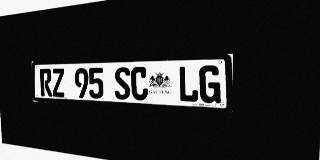5: (89, 68, 104, 99)
9: (74, 68, 89, 98)
C: (131, 67, 148, 101)
G: (199, 65, 221, 104)
L: (178, 66, 198, 103)
R: (40, 69, 52, 97)
S: (114, 67, 131, 100)
Z: (52, 68, 65, 97)
